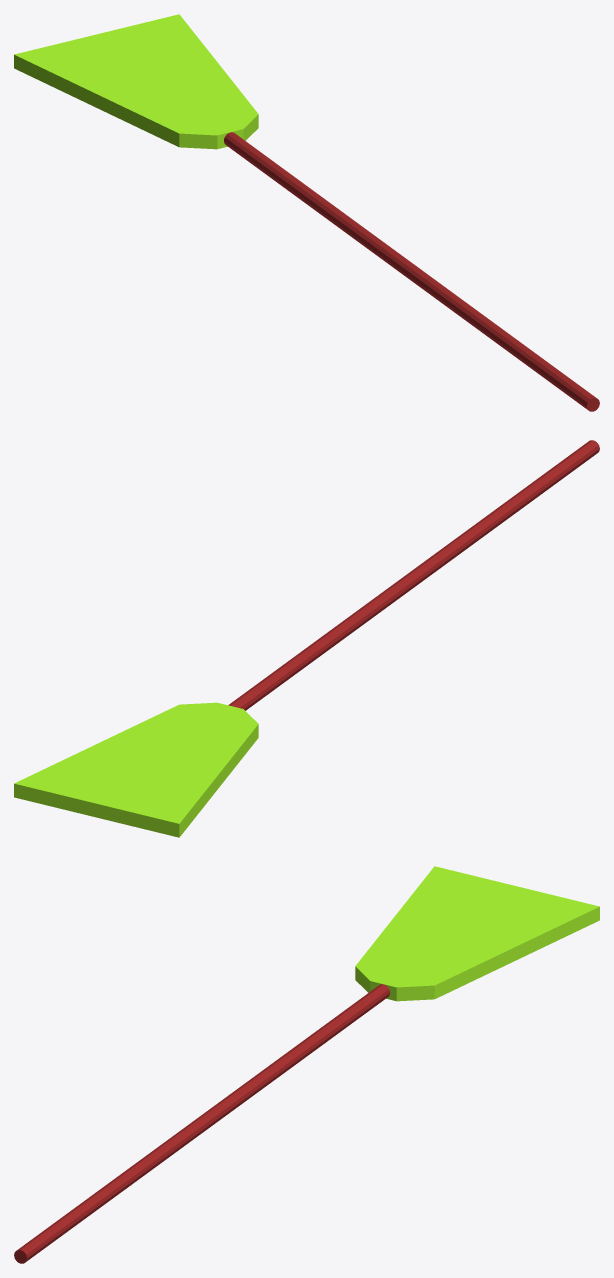
The model's file is nil_link_mesh.dae.
3 renders of one model, top to bottom at view 1: azimuth 30°, elevation 25°; view 2: azimuth 150°, elevation 25°; view 3: azimuth 330°, elevation 25°, orthographic.
Visible parts, largest first — view 1: nil_link (×2); view 2: nil_link (×2); view 3: nil_link (×2).
Part boxes in pixels (x1,y1,x2,y2): nil_link (×2): [14, 14, 599, 411]; nil_link (×2): [14, 440, 599, 837]; nil_link (×2): [14, 866, 599, 1263].
Size of the model in its own units: 0.25 by 0.02 by 1.3.
